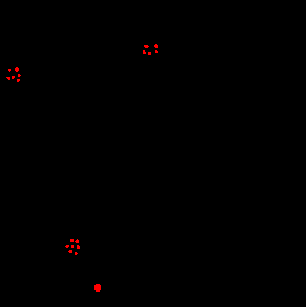Target: (94, 284, 101, 292), (15, 67, 19, 72), (154, 44, 158, 48), (75, 239, 79, 243), (144, 45, 149, 48), (143, 50, 146, 54), (6, 77, 10, 80), (70, 239, 74, 242), (65, 245, 69, 248), (77, 245, 80, 249), (68, 250, 72, 253), (155, 50, 158, 53), (148, 52, 151, 55), (8, 69, 11, 72), (18, 74, 21, 77), (12, 76, 15, 79), (17, 79, 20, 82), (71, 245, 74, 248), (75, 252, 78, 255)
